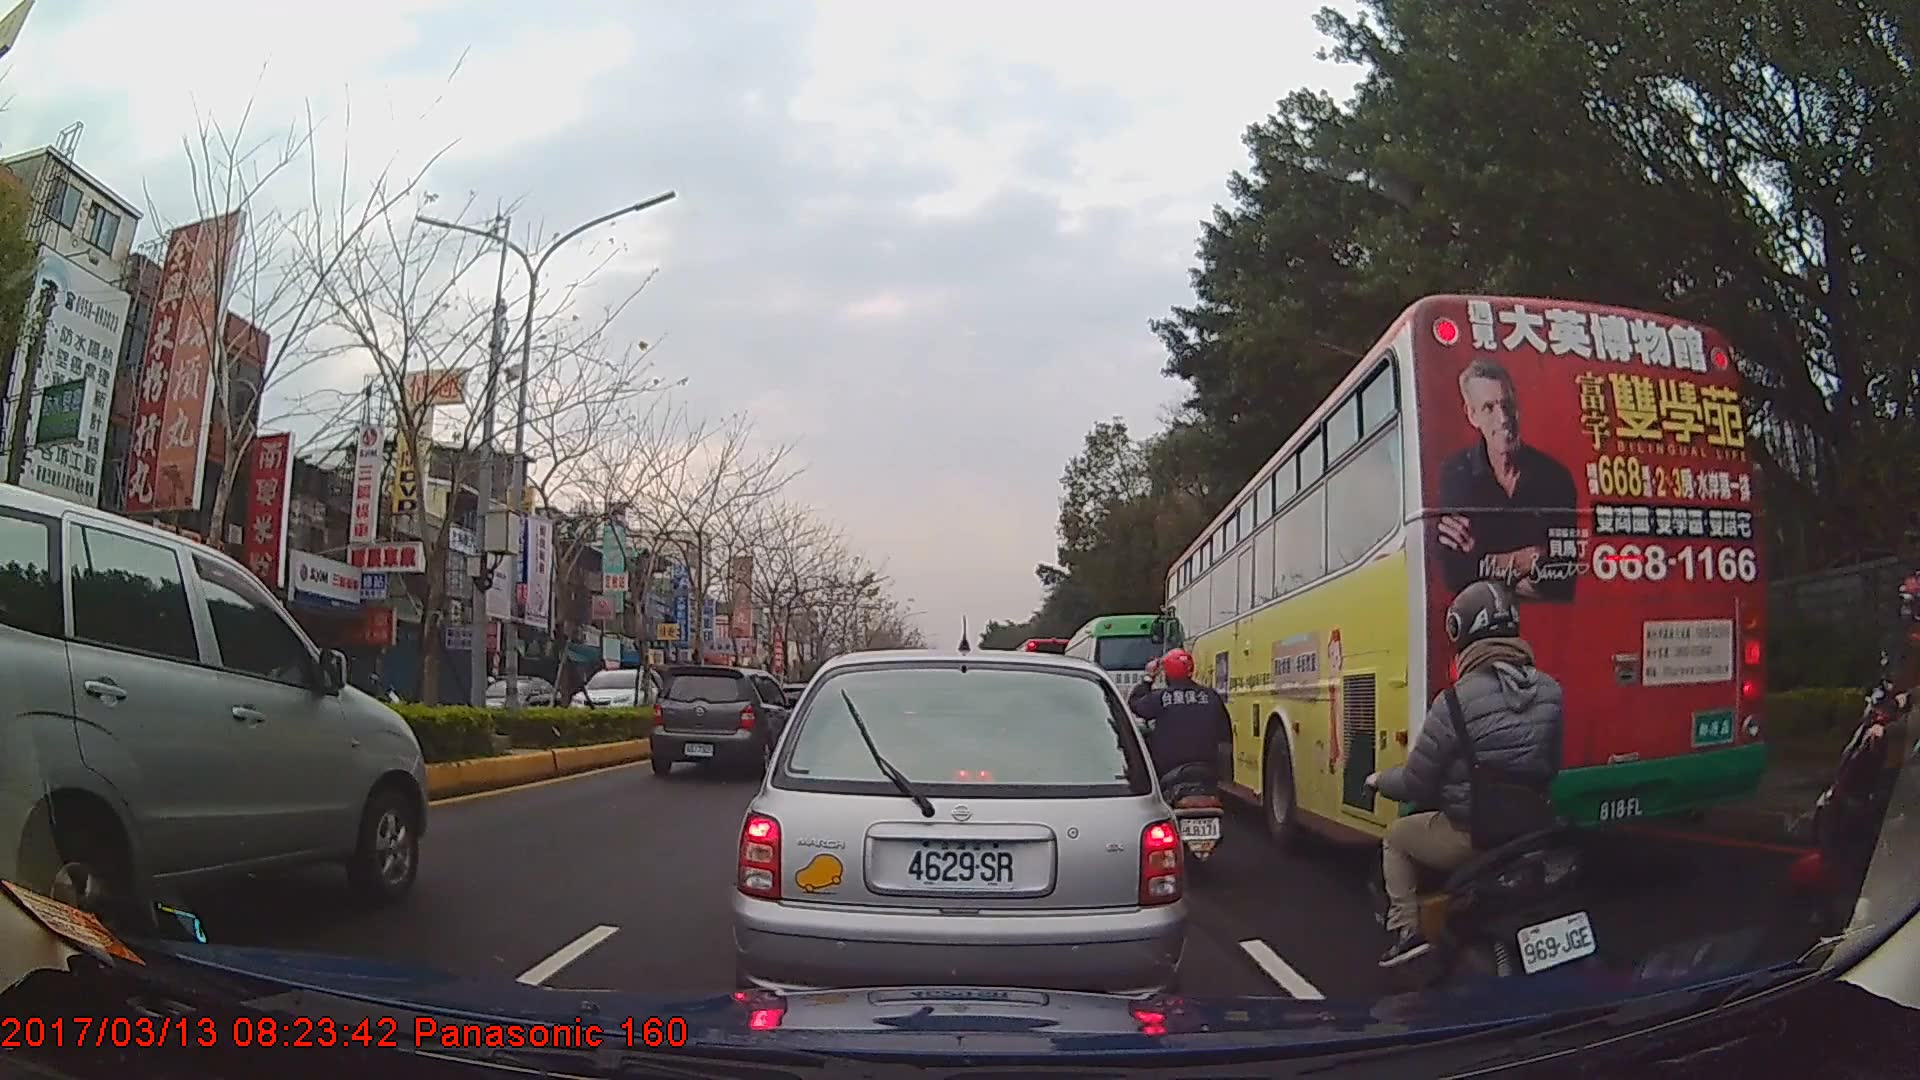rider: (1367, 576, 1594, 1022), (1767, 545, 1920, 965), (1819, 574, 1920, 884), (1126, 648, 1234, 876)
vehicle: (1160, 290, 1768, 865), (0, 472, 426, 964), (731, 647, 1187, 1021), (1058, 613, 1190, 765), (648, 664, 794, 778), (569, 665, 666, 729), (465, 671, 559, 735)
